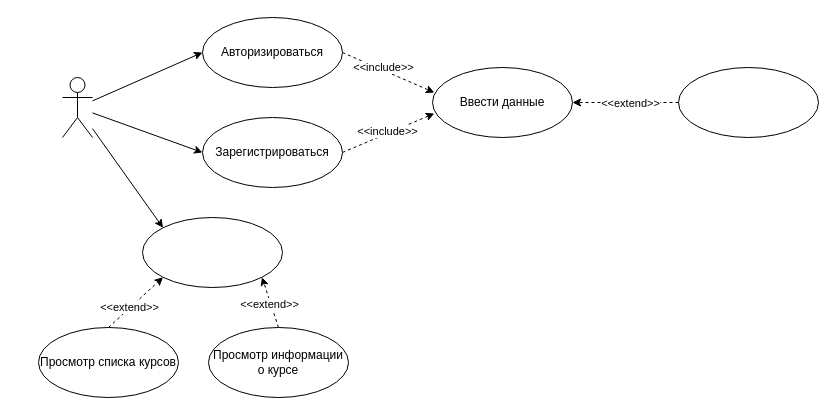
The diagram is 836 pixels wide and 415 high, and some of its shapes have lost their labels. Each missing label, with the centre of its shape:
"Взаимодействие с курсами" belongs at point (212, 252).
"Неавторизированный пользователь" belongs at point (77, 107).
"Неверные данные" belongs at point (748, 102).
